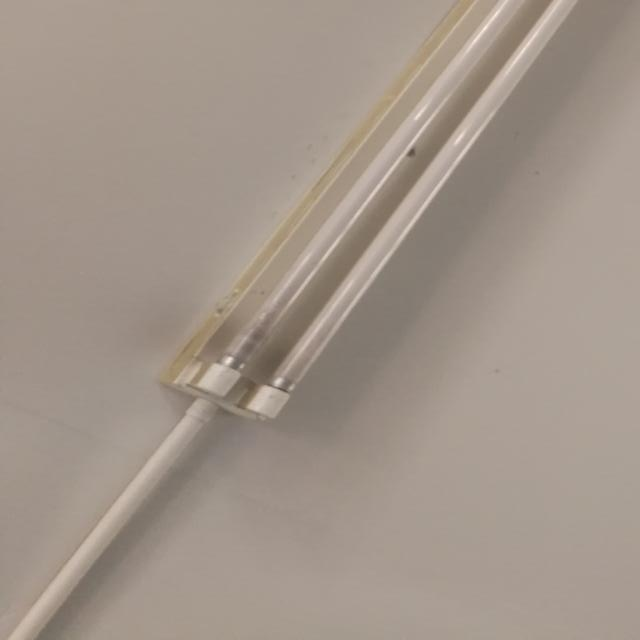fluorescent tube: (127, 0, 640, 452)
